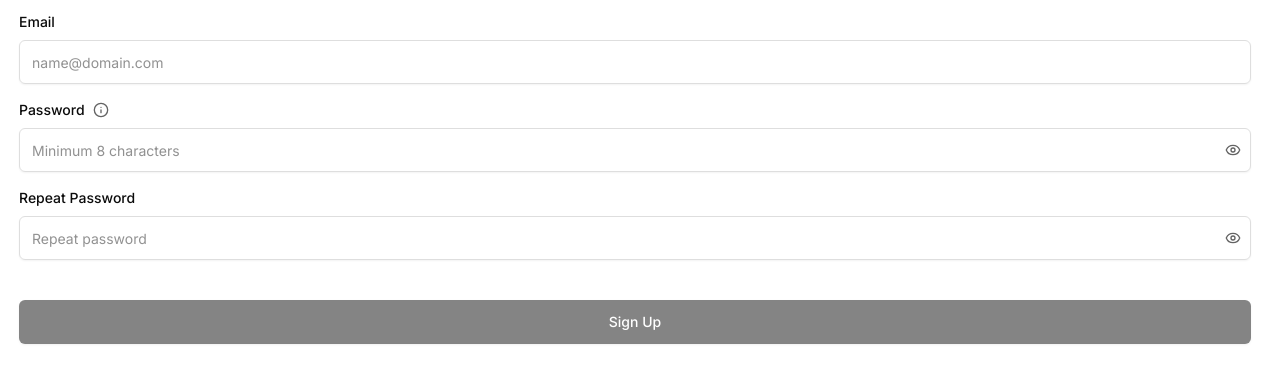
Test: RegisterForm › should show validation error for password without lowercase
Type "PASSWORD123!" into the password field with placeholder "Minimum 8 characters".
click(635, 150); type("PASSWORD123!")  # box 19,128 -> 1251,172
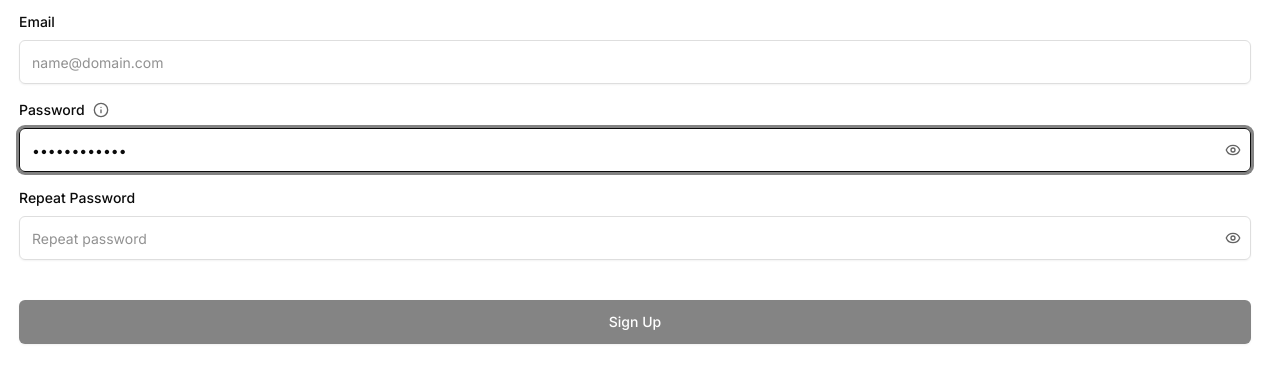
Press Tab
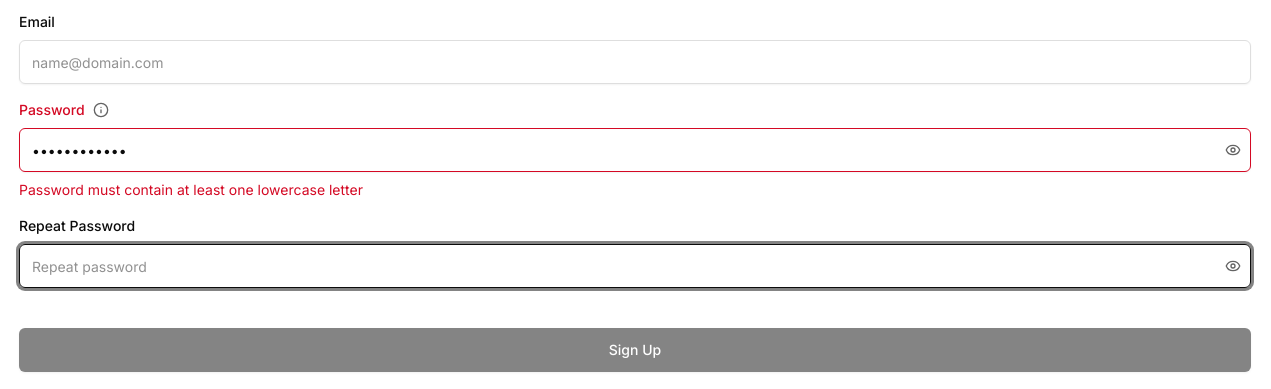
Check: the text "Password must contain at least one lowercase letter" is shown, box 19,181 -> 363,198
